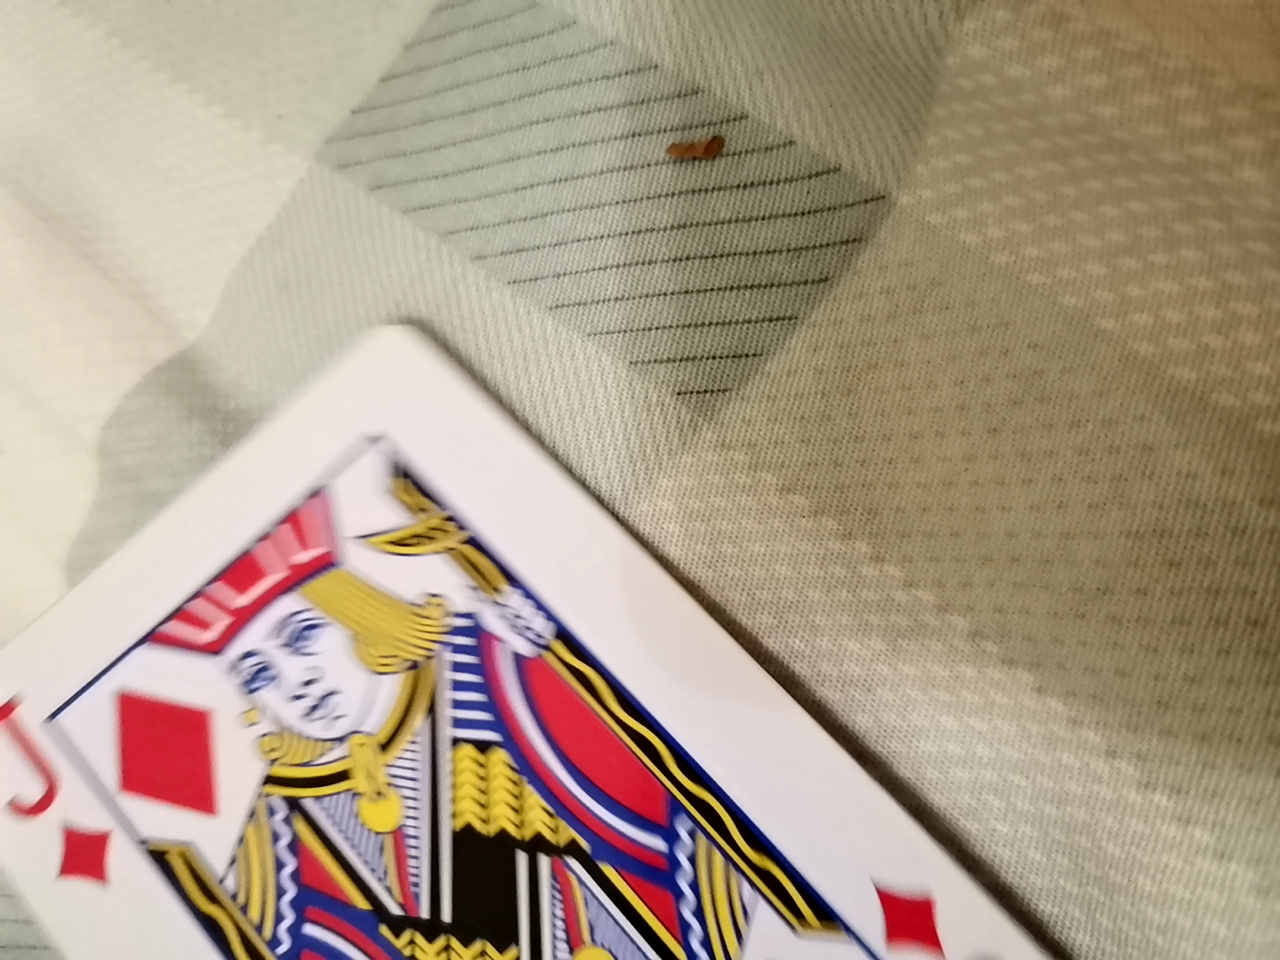fk j: (8, 311, 1127, 950)
